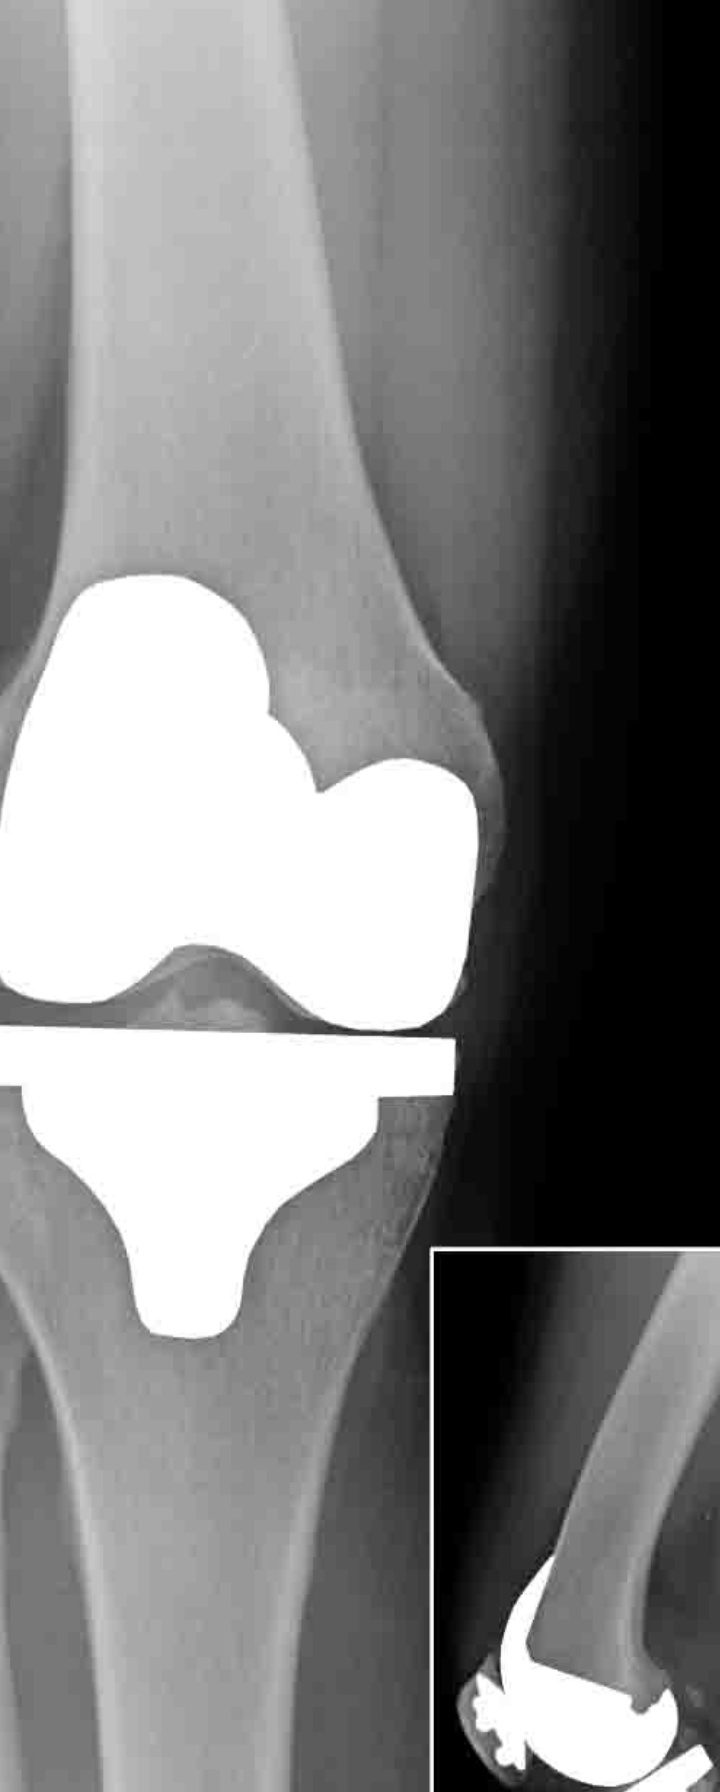Knee-TriathlonTritanium-Stryker: (1, 569, 520, 1346), (466, 1550, 715, 1787)
